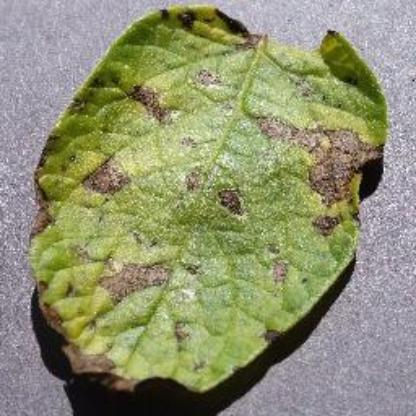Early-Blight: (29, 6, 390, 394)
